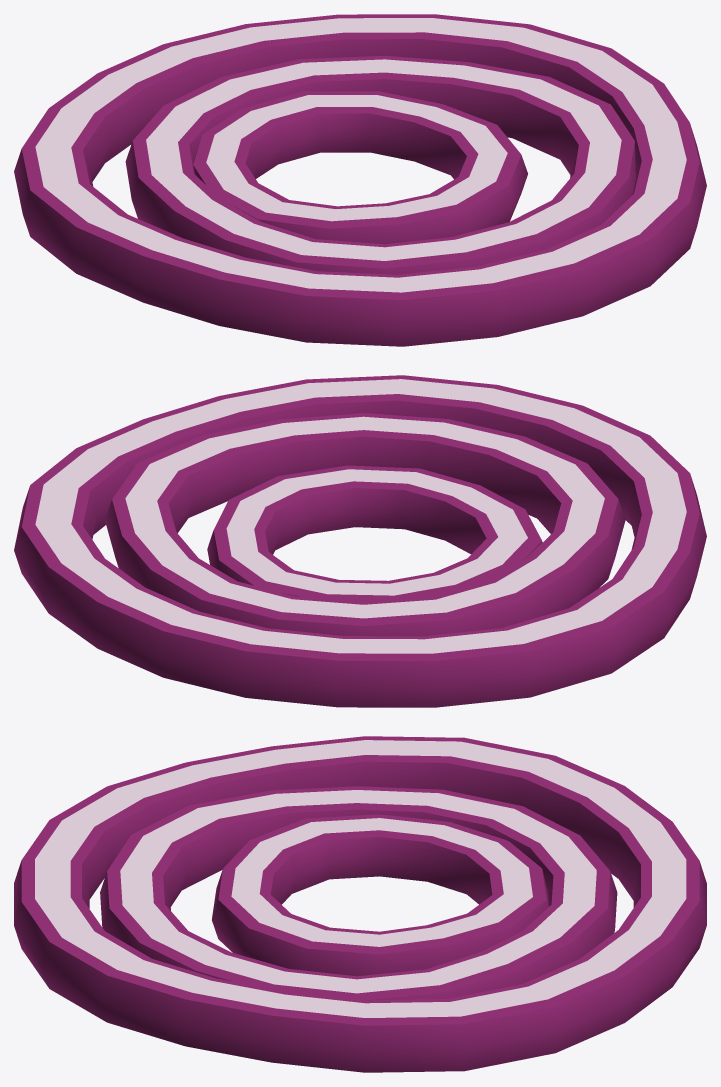
The model's file is Food_Onion.fbx.
3 views of the same model, one above another, from view 1: azimuth 30°, elevation 25°; view 2: azimuth 150°, elevation 25°; view 3: azimuth 270°, elevation 25° (orthographic).
Parts seen in each view (by area): view 1: Skin, Flesh; view 2: Skin, Flesh; view 3: Skin, Flesh.
Boxes of the visible parts, <box> form: Skin: <box>14,14,706,346</box>; Flesh: <box>35,18,686,292</box>; Skin: <box>14,375,706,707</box>; Flesh: <box>35,379,686,653</box>; Skin: <box>14,736,706,1072</box>; Flesh: <box>35,740,686,1017</box>.
Bounding box in the file's own units: 67.45 × 5.2 × 66.76.
